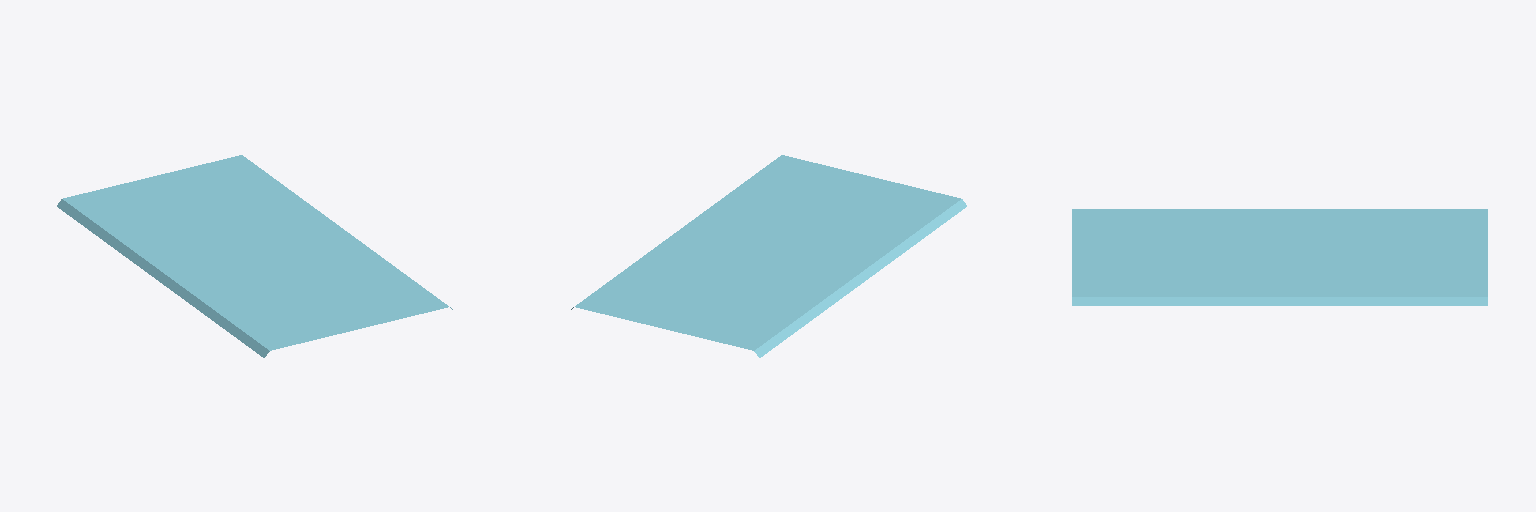
Rendered from 6L_HW_Segment_Ground.obj.
3 renders of one model, left to right at view 1: azimuth 30°, elevation 25°; view 2: azimuth 150°, elevation 25°; view 3: azimuth 270°, elevation 25°, orthographic.
Visible parts, largest first — view 1: Plane005; view 2: Plane005; view 3: Plane005.
Part boxes in pixels (x1,y1,x2,y2): Plane005: (57, 155, 452, 357); Plane005: (571, 155, 966, 357); Plane005: (1072, 209, 1487, 305).
Size of the model in its own units: 34 by 1.05 by 64.